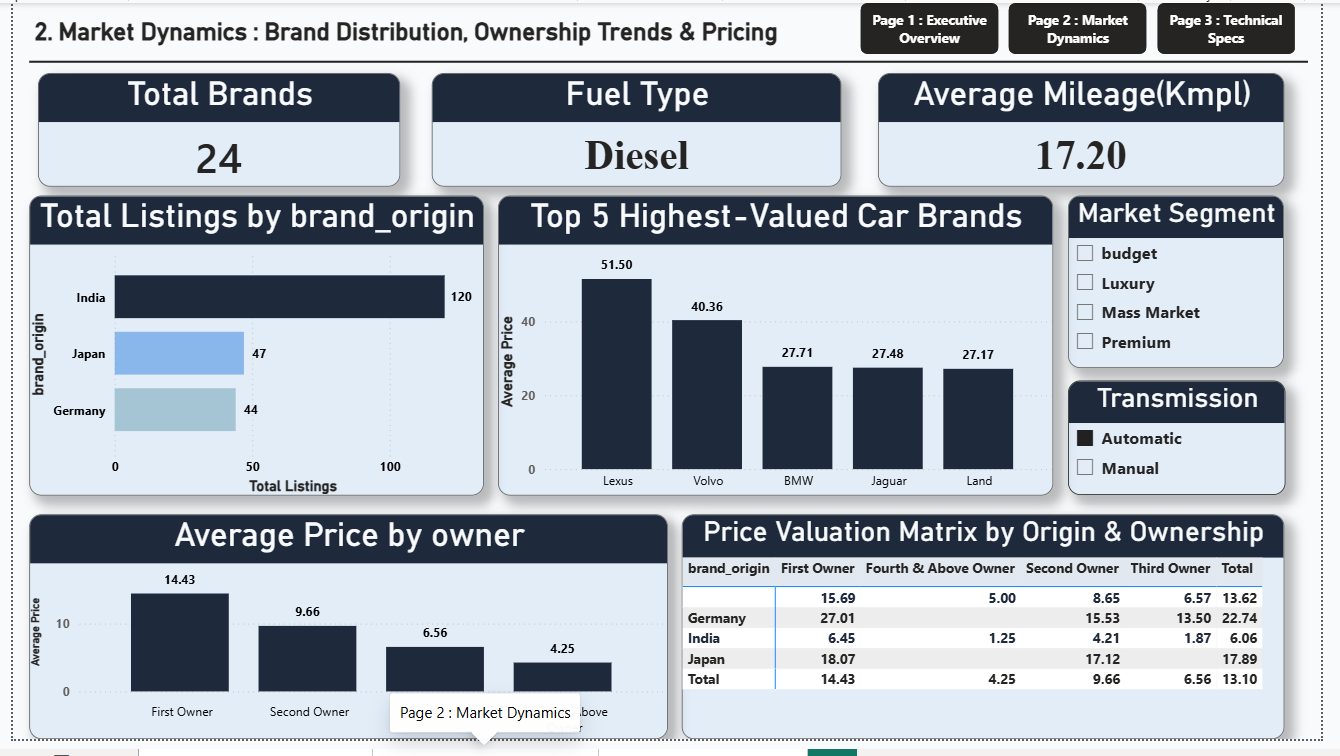

The page's visual inventory and layout, read from the dashboard file:
{"tool":"powerbi","page":{"name":"Page 2 : Market Dynamics ","canvas":[1280,720],"ordinal":1},"visuals":[{"type":"textbox","box":[15.9,8.6,752,48.9],"z":0},{"type":"cardVisual","title":"Total Brands","fields":{"Data":["Count(car_analysis vw_powerbi_automotive_analytics.brand)"]},"box":[24.5,68.5,354.6,111.3],"z":1000},{"type":"cardVisual","title":"Average Mileage(Kmpl)","fields":{"Data":["Avg(car_analysis vw_powerbi_automotive_analytics.mileage)"]},"box":[846.2,68.5,397.4,111.3],"z":2000},{"type":"cardVisual","title":" Fuel Type","fields":{"Data":["Min(car_analysis vw_powerbi_automotive_analytics.fuel)"]},"box":[409.6,68.5,401.1,111.3],"z":3000},{"type":"barChart","fields":{"Category":["car_analysis vw_powerbi_automotive_analytics.brand_origin"],"Y":["_All Measures.Total Listings"]},"box":[15.9,188.3,445.1,293.5],"z":4000},{"type":"clusteredColumnChart","fields":{"Y":["_All Measures.Average Price"],"Category":["car_analysis vw_powerbi_automotive_analytics.owner"]},"box":[15.9,500.1,624.9,220.1],"z":5000},{"type":"pivotTable","title":"Price Valuation Matrix by Origin & Ownership","fields":{"Rows":["car_analysis vw_powerbi_automotive_analytics.brand_origin"],"Columns":["car_analysis vw_powerbi_automotive_analytics.owner"],"Values":["_All Measures.Average Price"]},"box":[654.2,500.1,589.4,220.1],"z":6000},{"type":"clusteredColumnChart","title":"Top 5 Highest-Valued Car Brands","fields":{"Category":["car_analysis vw_powerbi_automotive_analytics.brand"],"Y":["_All Measures.Average Price"]},"box":[474.5,188.3,542.9,293.5],"z":7000},{"type":"slicer","title":"Transmission","fields":{"Values":["car_analysis vw_powerbi_automotive_analytics.transmission"]},"box":[1032,369.6,213.2,112],"z":8000},{"type":"slicer","title":"Market Segment","fields":{"Values":["car_analysis vw_powerbi_automotive_analytics.brand_segment"]},"box":[1032.1,188.3,211.6,168.8],"z":9000},{"type":"pageNavigator","box":[829.1,0,428,50.1],"z":10000},{"type":"shape","title":"Page 1:","box":[15.9,50.1,1251,14.7],"z":11000}]}

Visuals, with their boxes in screenshot pixels (x1, y1, x2, y2), scaled from the page's 1280x720 canvas onto the 1340x756 screenshot:
textbox: bbox=[17, 9, 804, 60]
"Total Brands" cardVisual: bbox=[26, 72, 397, 189]
"Average Mileage(Kmpl)" cardVisual: bbox=[886, 72, 1302, 189]
" Fuel Type" cardVisual: bbox=[429, 72, 849, 189]
barChart - car_analysis vw_powerbi_automotive_analytics.brand_origin x _All Measures.Total Listings: bbox=[17, 198, 483, 506]
clusteredColumnChart - _All Measures.Average Price x car_analysis vw_powerbi_automotive_analytics.owner: bbox=[17, 525, 671, 755]
"Price Valuation Matrix by Origin & Ownership" pivotTable: bbox=[685, 525, 1302, 755]
"Top 5 Highest-Valued Car Brands" clusteredColumnChart: bbox=[497, 198, 1065, 506]
"Transmission" slicer: bbox=[1080, 388, 1304, 506]
"Market Segment" slicer: bbox=[1080, 198, 1302, 375]
pageNavigator: bbox=[868, 0, 1316, 53]
"Page 1:" shape: bbox=[17, 53, 1326, 68]
